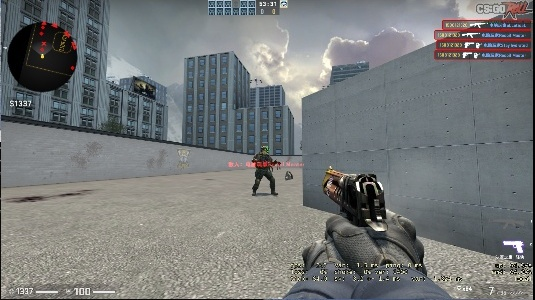body: (252, 146, 280, 195)
head: (261, 147, 268, 155)
